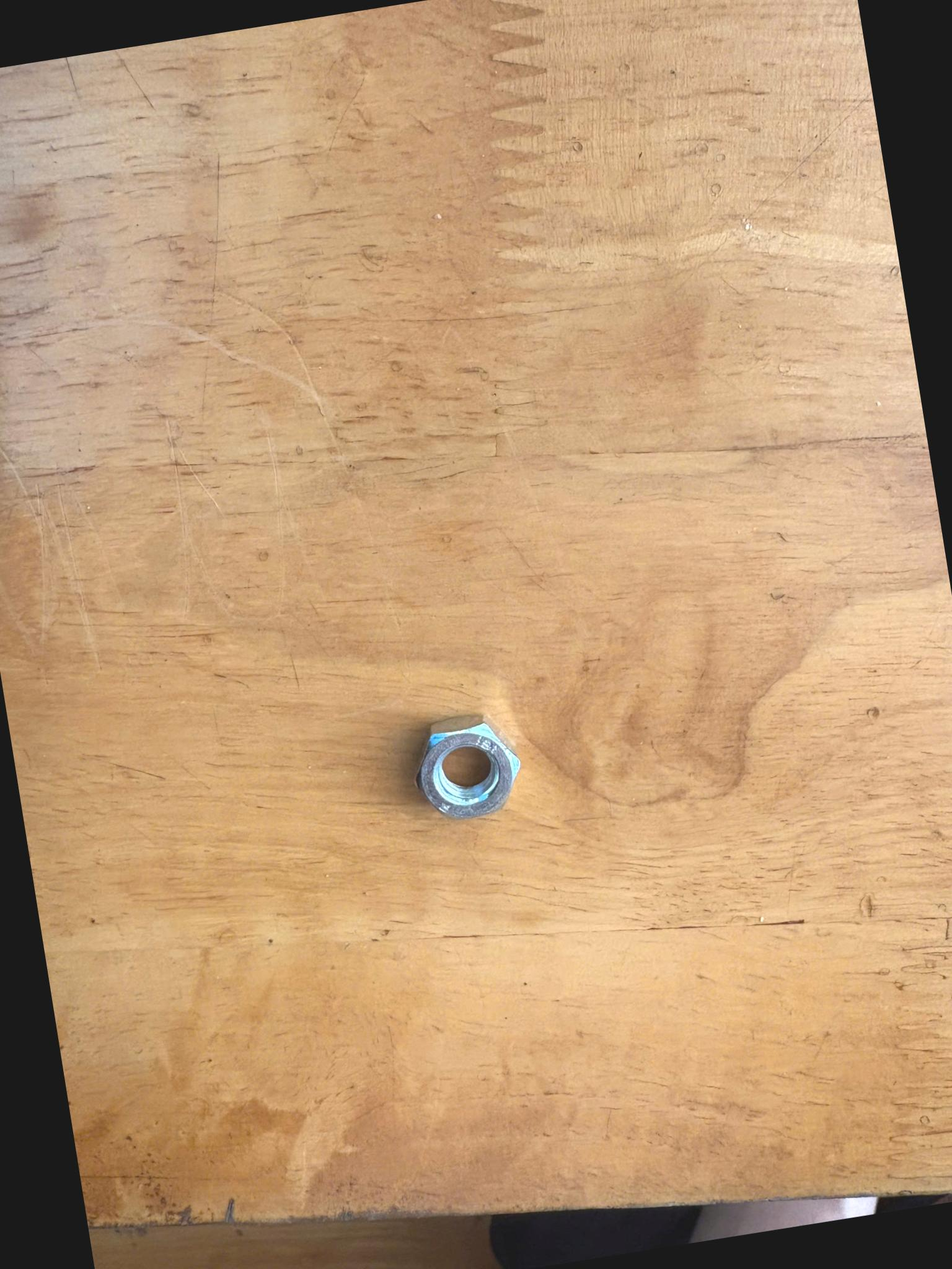nut: (377, 688, 547, 850)
